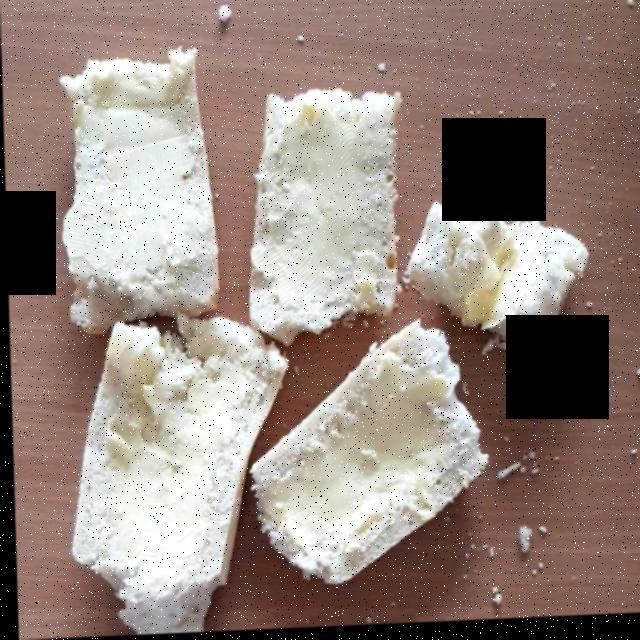bread: (58, 54, 596, 628)
butter: (75, 58, 550, 601)
